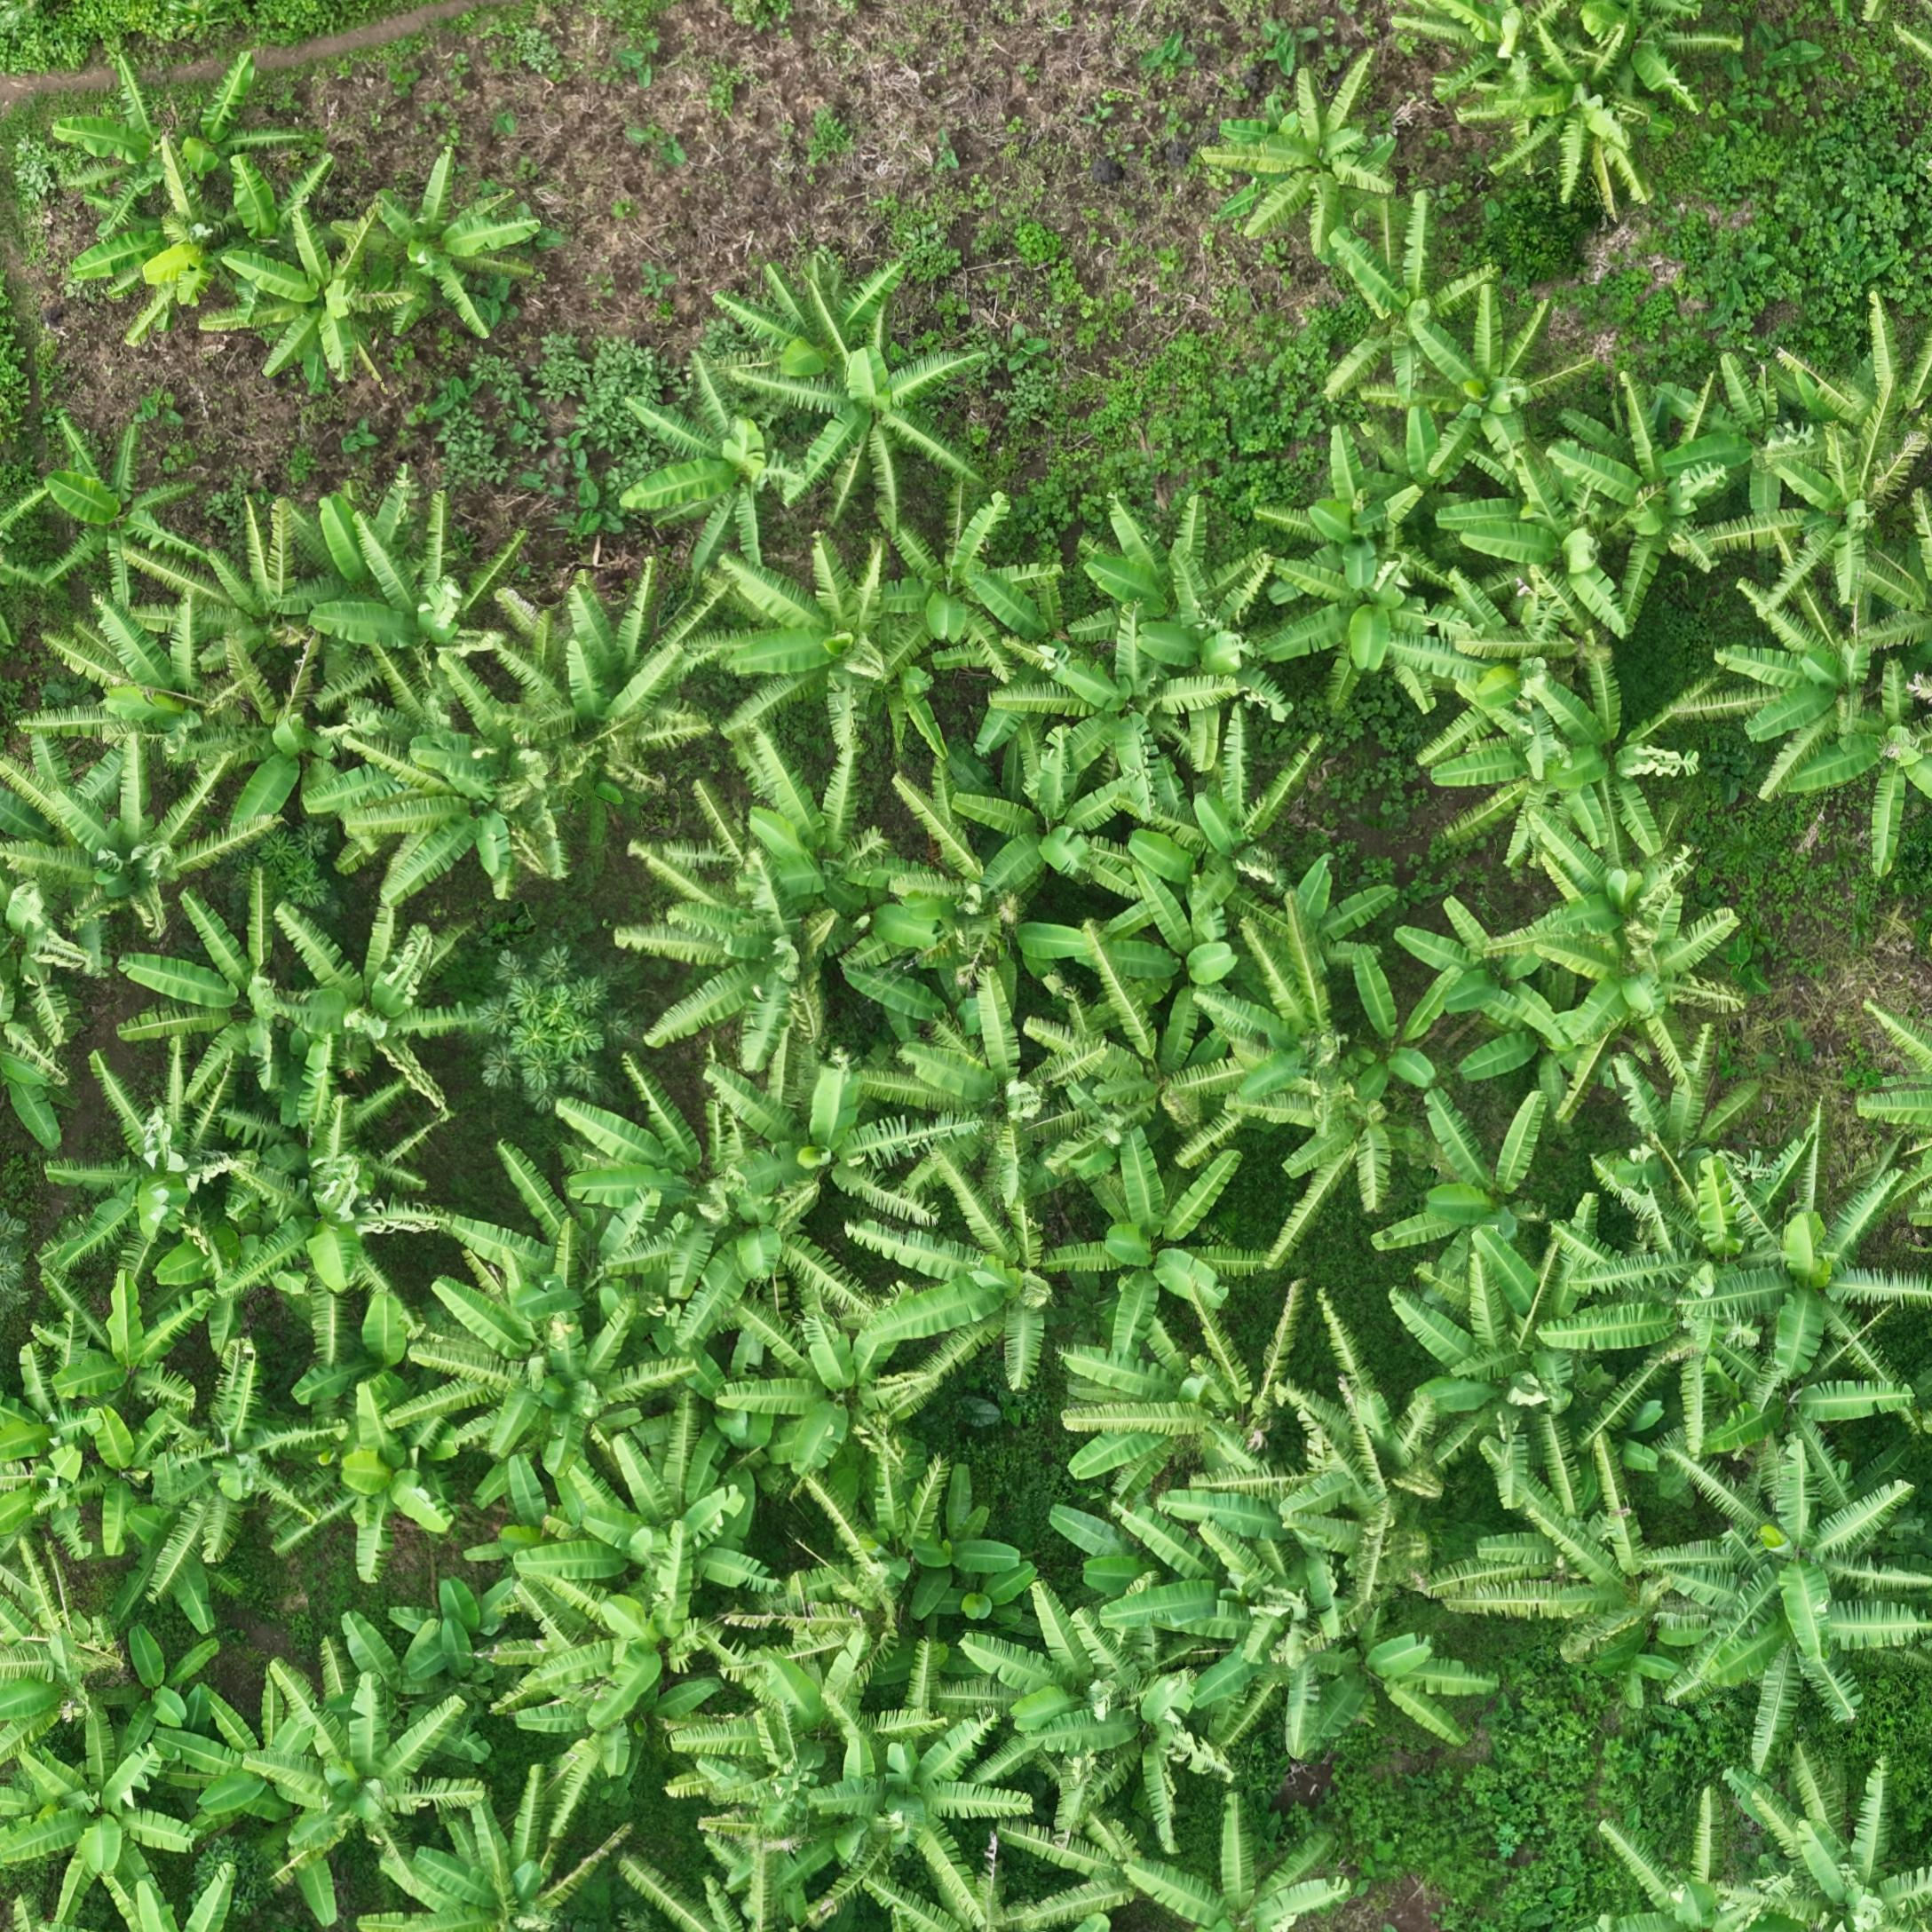Banana: (752, 559, 978, 796), (1741, 1507, 1932, 1711), (656, 389, 842, 586), (287, 1721, 458, 1932), (317, 1438, 497, 1635), (165, 941, 341, 1141), (294, 939, 479, 1129), (370, 163, 545, 357), (1276, 62, 1451, 255), (62, 803, 226, 993), (1380, 223, 1530, 410), (1122, 1192, 1276, 1375), (1594, 701, 1757, 872), (237, 218, 391, 398), (1468, 324, 1617, 487), (1467, 943, 1631, 1076), (62, 449, 188, 616), (25, 1808, 188, 1932)
